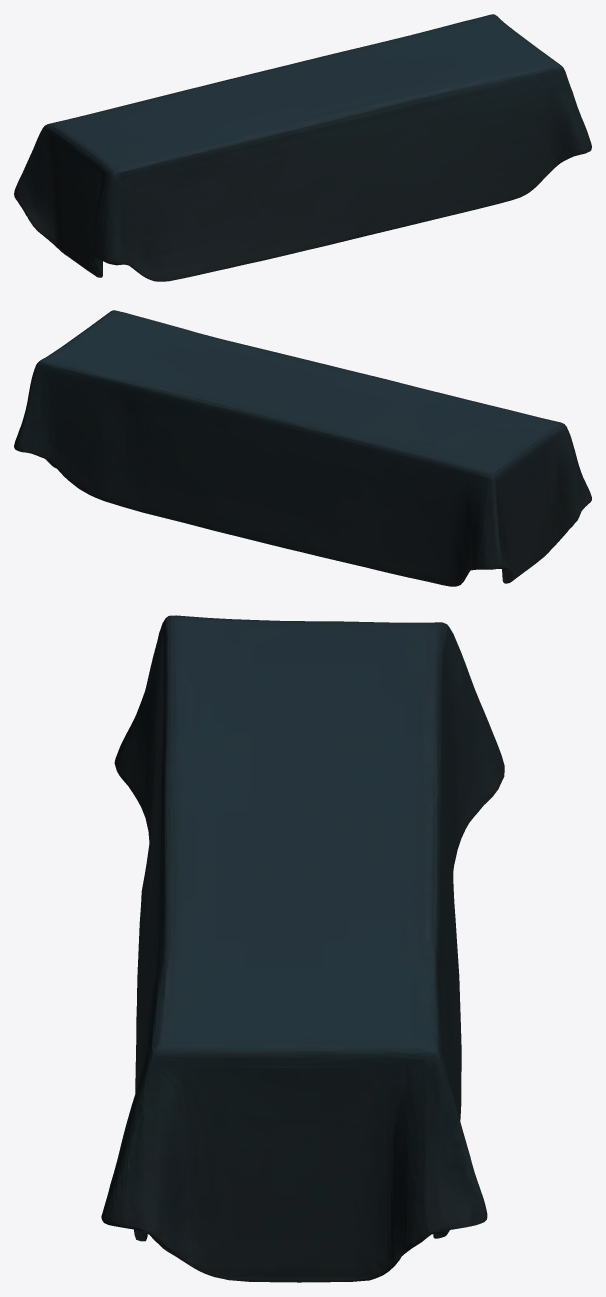
The model's file is table.glb.
3 views of the same model, one above another, from view 1: azimuth 30°, elevation 25°; view 2: azimuth 150°, elevation 25°; view 3: azimuth 270°, elevation 25° (orthographic). The views are drawn at different scales.
Visible parts, largest first — view 1: geometry_0; view 2: geometry_0; view 3: geometry_0.
Boxes of the visible parts, box(x1,y1,x2,y2) form: geometry_0: box(14, 14, 591, 281); geometry_0: box(14, 310, 591, 586); geometry_0: box(101, 615, 504, 1282).
Bounding box in the file's own units: 0.9999 × 0.238 × 0.3594.
Materials: 1 (1 with a texture image).
